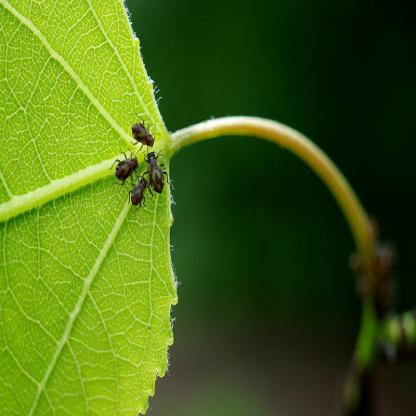aphid: (144, 144, 172, 194), (111, 146, 143, 188), (130, 111, 157, 154), (129, 168, 150, 218)
